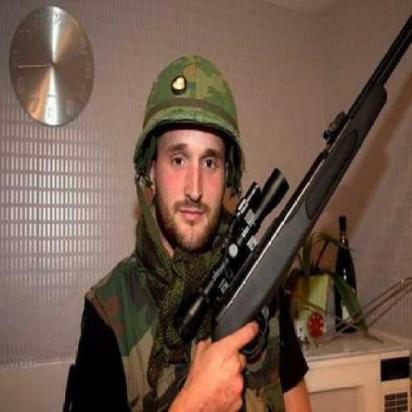Gun: (217, 80, 400, 368)
